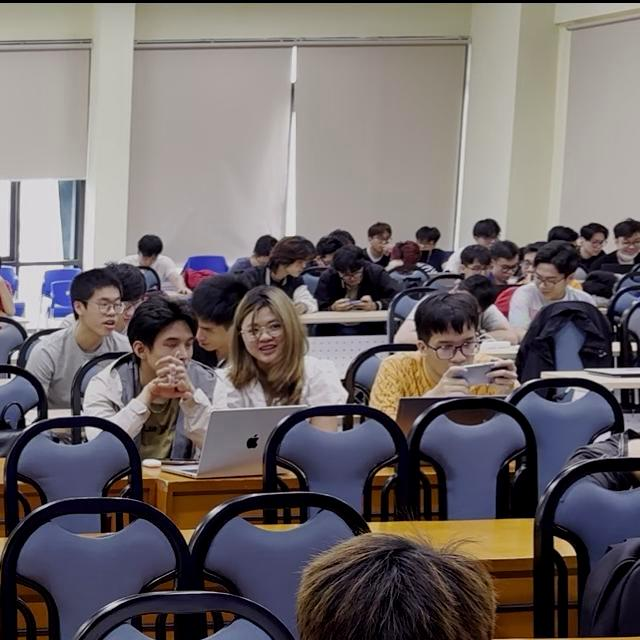Looking away: (147, 324, 195, 381), (81, 286, 125, 339), (196, 314, 229, 354), (531, 268, 566, 304)
Looking forward: (238, 309, 287, 360)
Phone use: (365, 293, 520, 423)
